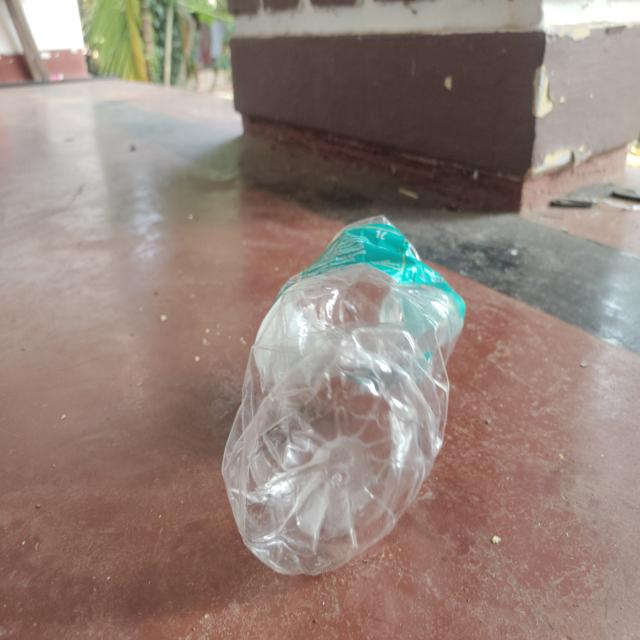plastic: (224, 213, 468, 576)
